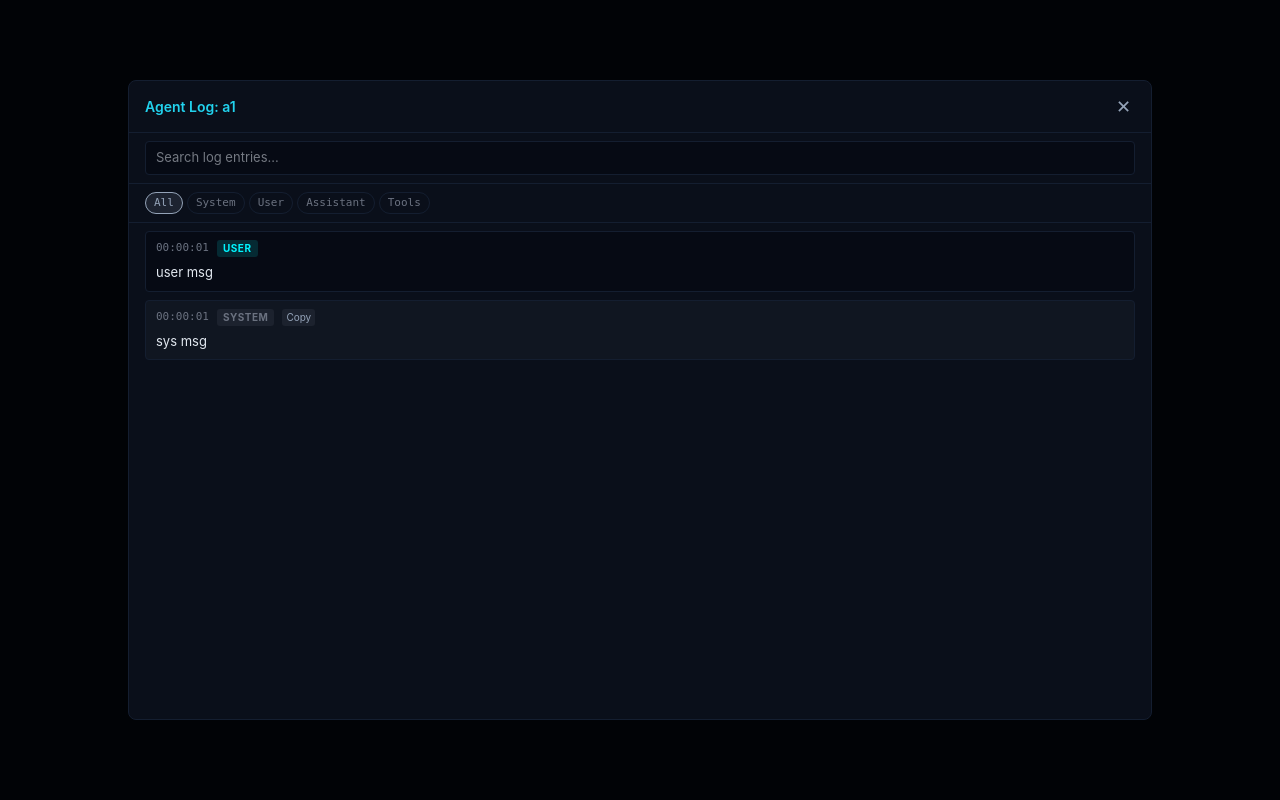
Test: LogViewer › filters by system role tab
Click the button "System" at x=216, y=203, box [187,192,245,214]
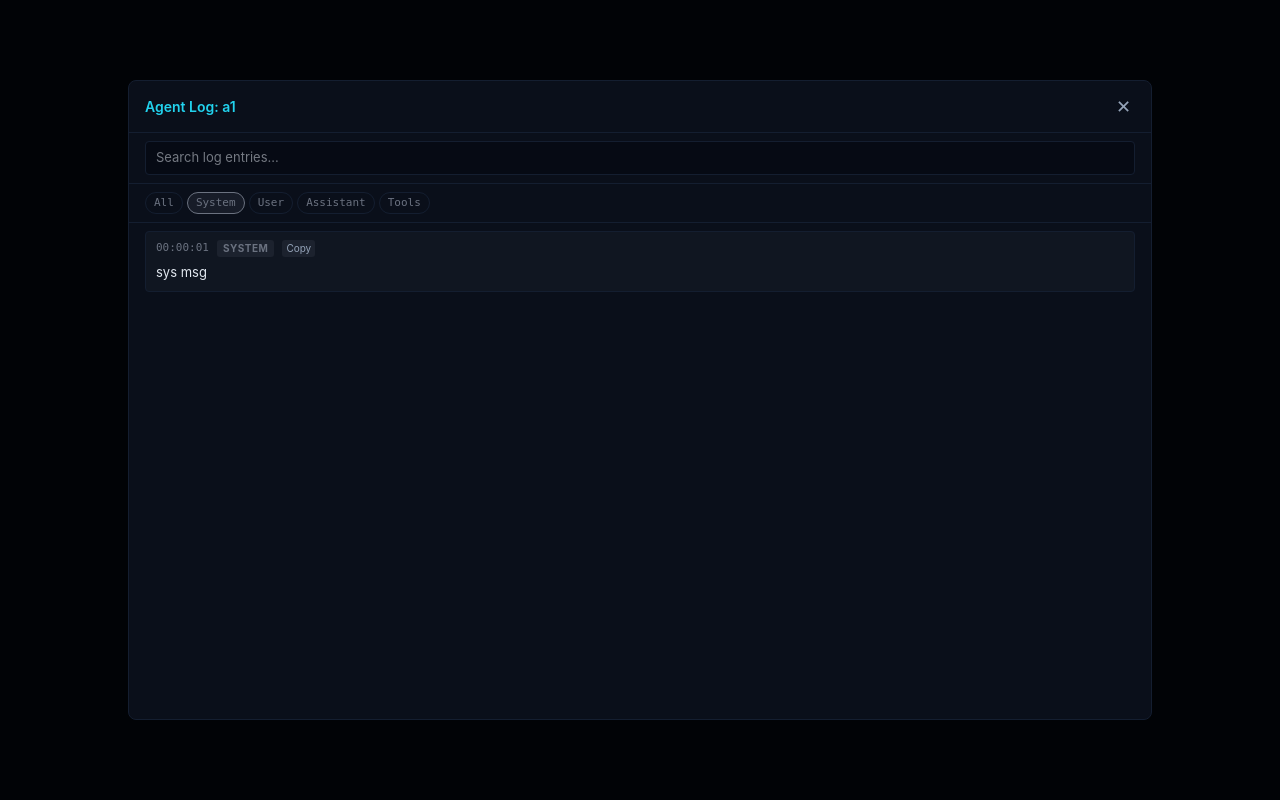
Expected: the text "user msg" is gone
Expected: the text "sys msg" is shown, [156,264,207,280]
